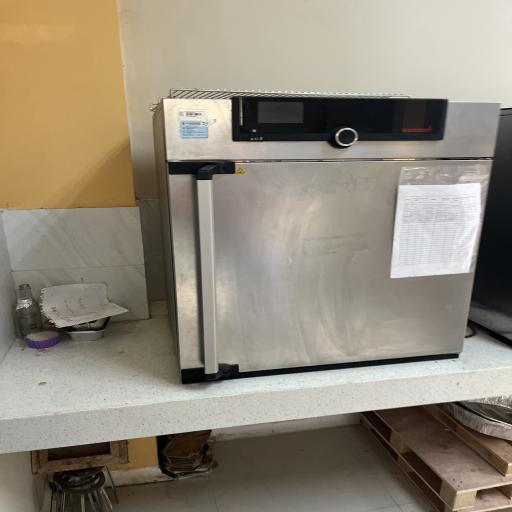Memmert_Unidad2: (142, 76, 512, 393)
